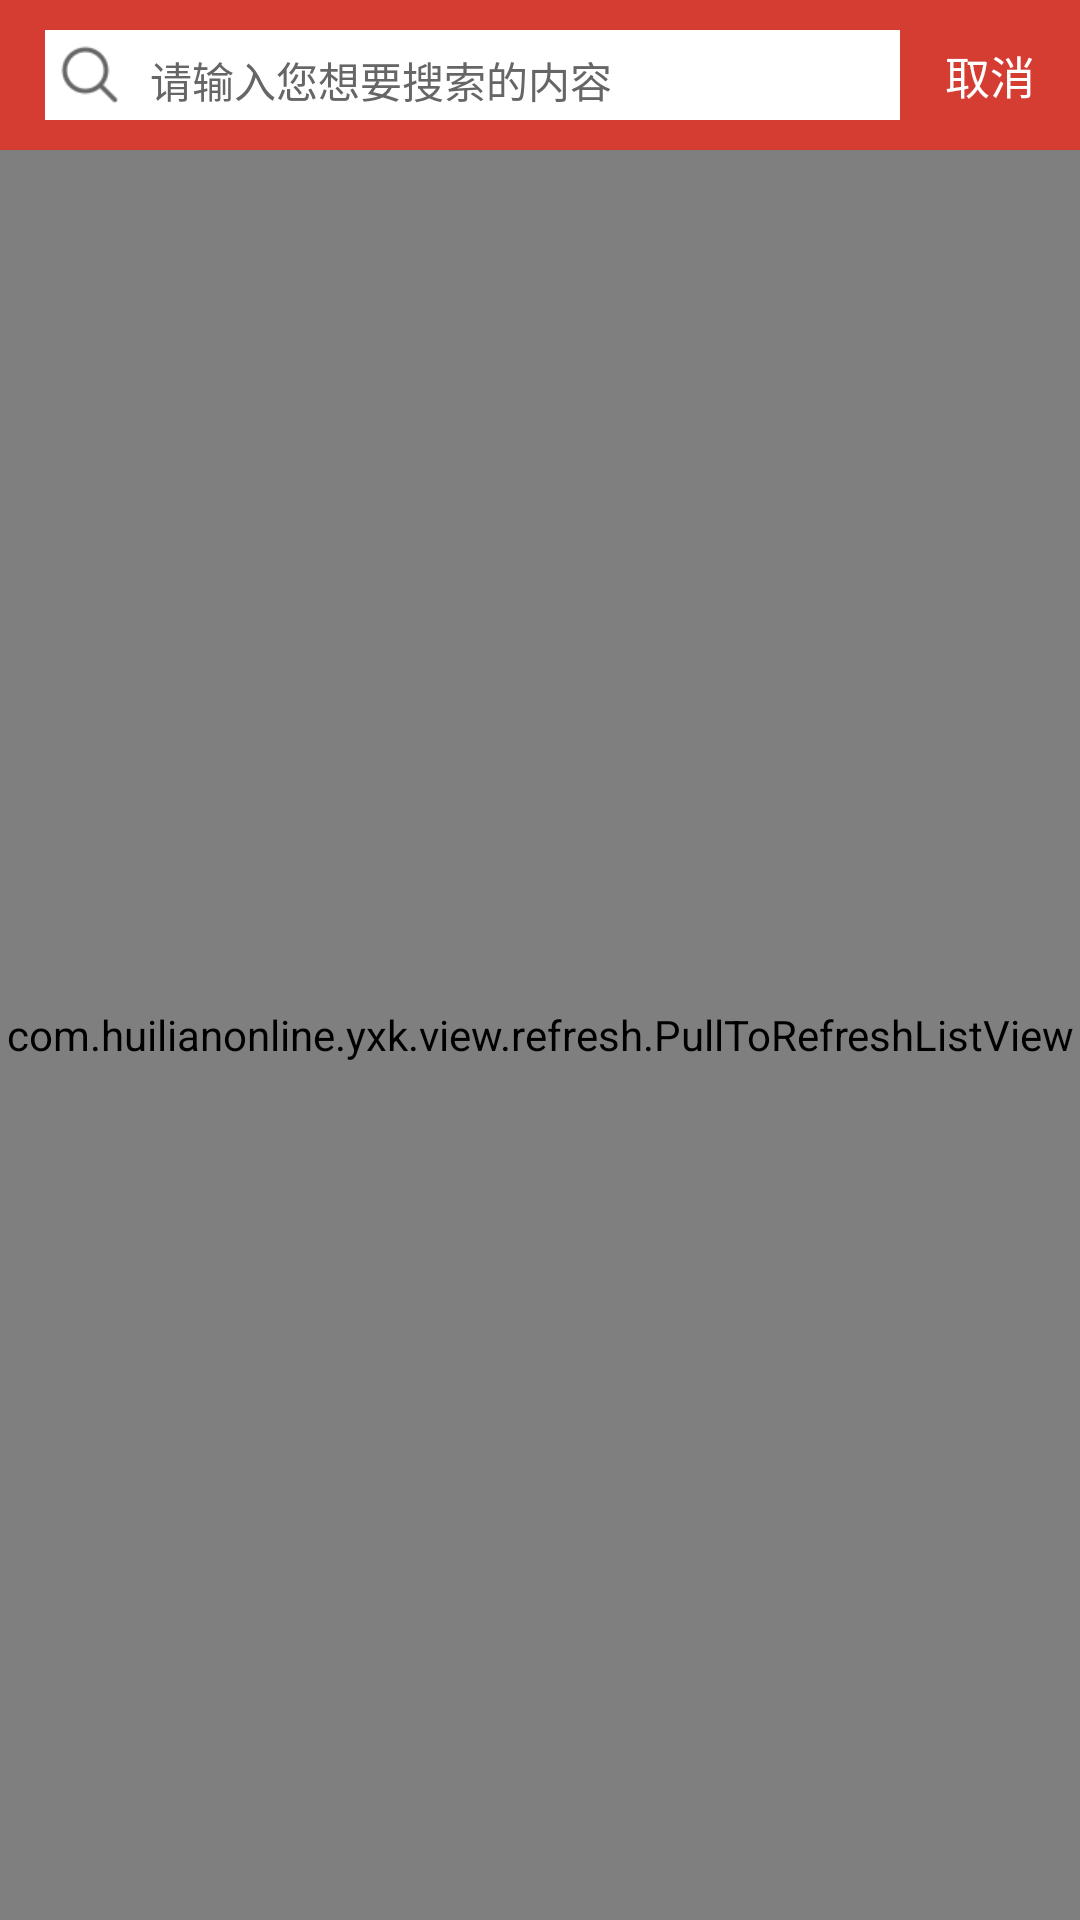

Named icons in this screenshot (1080 x 1920) and their centers, point (x, y):
search: point (89, 74)
